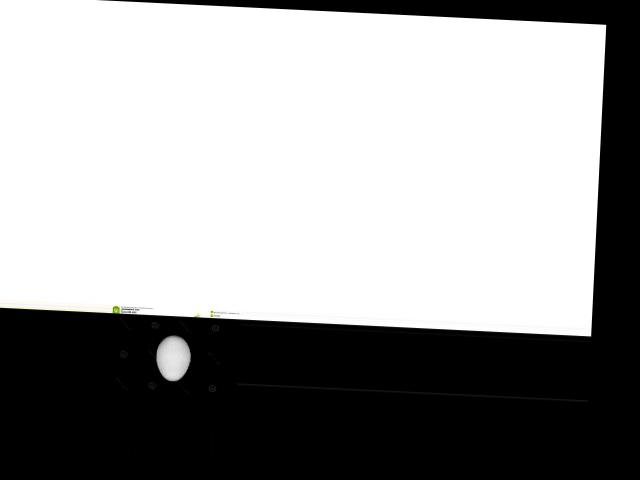egg: (155, 334, 193, 381)
